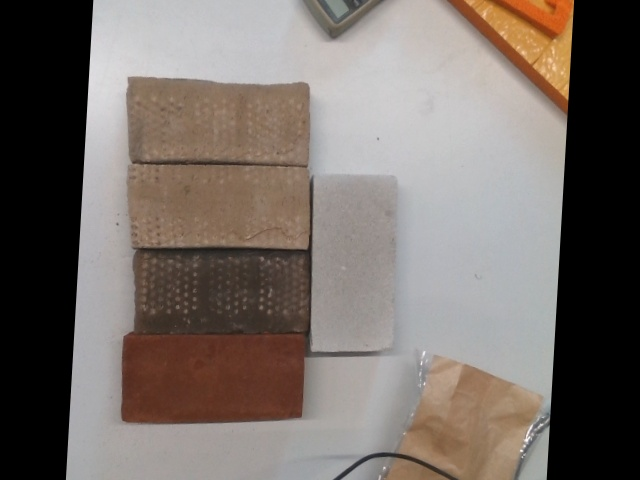brick: (129, 78, 310, 164), (312, 174, 395, 351), (130, 167, 309, 249), (125, 338, 301, 421), (133, 255, 308, 328)
